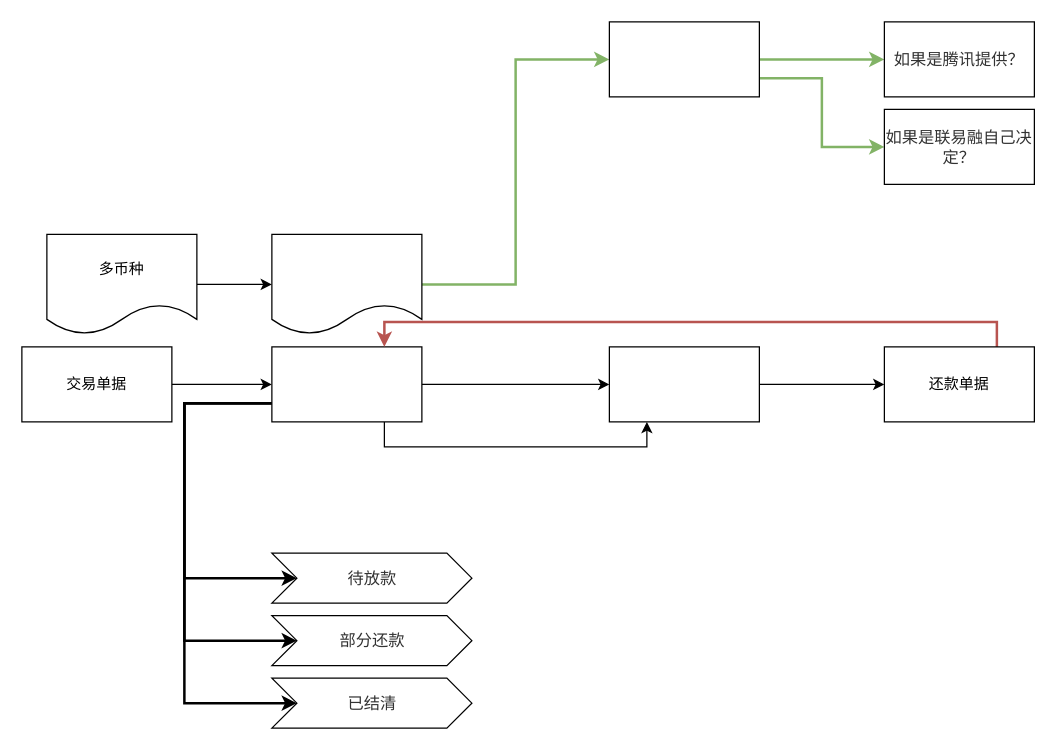
Image size: 1056x750. Some labels were removed from this diagram. The box of each missing label's shape, as (x1, y1, x2, y2) in pixels:
放款单据: (608, 346, 759, 422)
融资单据: (271, 346, 422, 422)
融资金额是谁决定？: (608, 21, 759, 97)
转成USD 保留用源币种: (271, 233, 422, 334)
